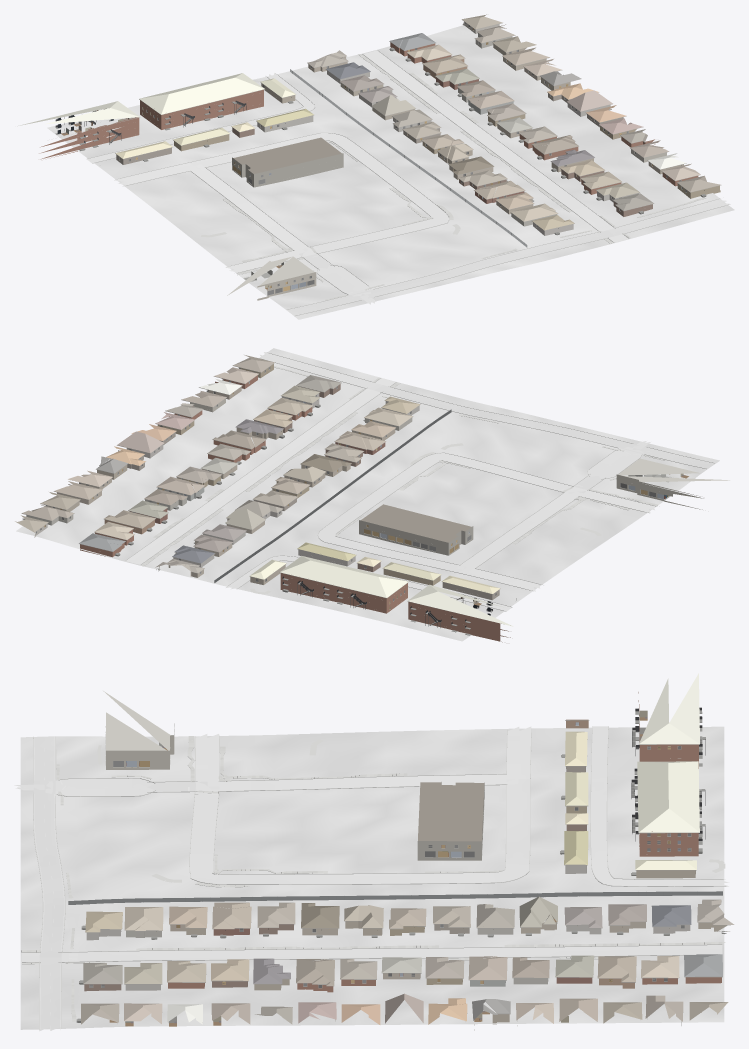
3 renders of one model, top to bottom at view 1: azimuth 30°, elevation 25°; view 2: azimuth 150°, elevation 25°; view 3: azimuth 270°, elevation 25°, orthographic. The views are drawn at different scales.
Parts seen in each view (by area): view 1: ground, roof, concrete, wall, detail, asphalt, curb, roof_flat, walk, wall_com, wall_stucco, wall_stone (+2 smaller); view 2: ground, roof, concrete, wall, curb, detail, asphalt, roof_flat, walk, wall_com, wall_stucco, wall_stone (+3 smaller); view 3: ground, roof, concrete, wall, asphalt, roof_flat, curb, walk, detail, chain, wall_com, wall_stucco (+3 smaller).
Boxes of the visible parts, x1,y1,x2,y2 form: ground: (47, 25, 734, 319); roof: (17, 14, 720, 230); concrete: (87, 50, 628, 296); wall: (39, 42, 720, 216); detail: (55, 20, 721, 295); asphalt: (287, 200, 730, 315); curb: (87, 50, 729, 315); roof_flat: (227, 137, 341, 295); walk: (201, 54, 705, 300); wall_com: (232, 153, 343, 300); wall_stucco: (308, 22, 666, 226); wall_stone: (257, 70, 638, 235); ground: (16, 348, 719, 641); roof: (15, 355, 513, 626); concrete: (126, 378, 654, 611); wall: (47, 364, 510, 642); curb: (125, 352, 714, 611); detail: (21, 363, 687, 635); asphalt: (260, 352, 714, 468); roof_flat: (360, 458, 729, 542); walk: (141, 366, 678, 594); wall_com: (359, 474, 703, 555); wall_stucco: (22, 398, 412, 577); wall_stone: (118, 393, 419, 567); ground: (20, 726, 724, 1029); roof: (81, 673, 734, 1024); concrete: (22, 726, 729, 962); wall: (84, 692, 721, 1030); asphalt: (14, 736, 64, 1031); roof_flat: (103, 691, 484, 841); curb: (22, 726, 728, 1029); walk: (21, 736, 725, 1021); detail: (76, 710, 730, 1023); chain: (68, 891, 722, 904); wall_com: (106, 735, 484, 860); wall_stucco: (126, 921, 729, 1025).
Size of the model in its own units: 281 by 17.88 by 256.
